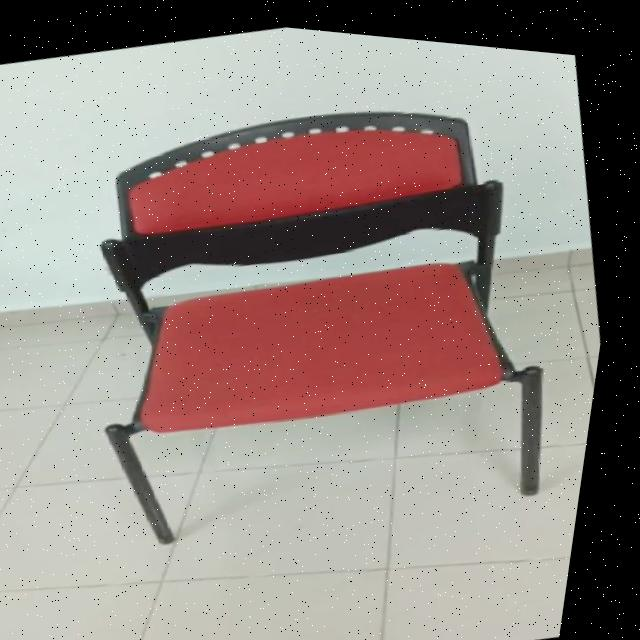sandalye: (108, 103, 552, 539)
